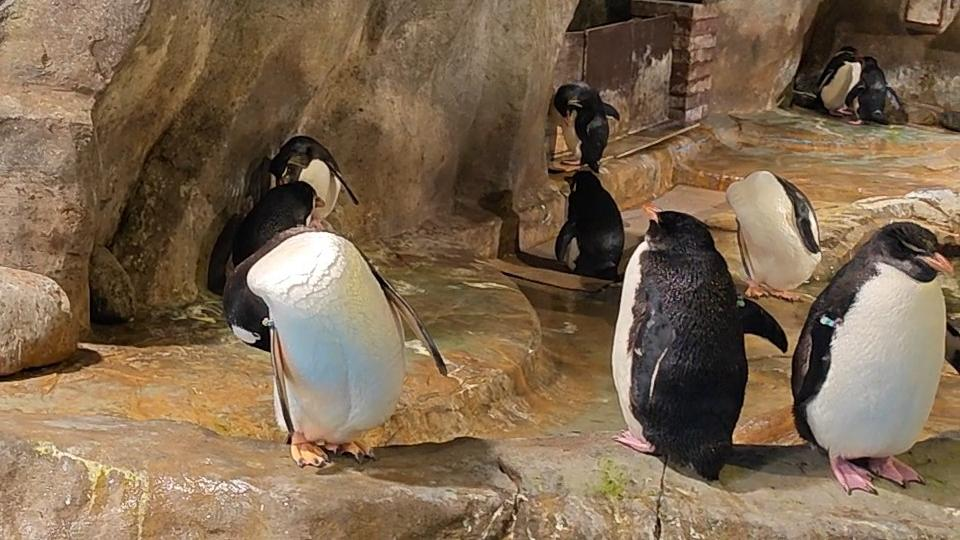Southern Rockhopper Penguin: (611, 197, 795, 494), (786, 217, 960, 506), (221, 180, 326, 274), (546, 166, 628, 283), (264, 126, 360, 224), (552, 75, 618, 167), (837, 55, 907, 130), (810, 39, 867, 121), (607, 141, 607, 142)
